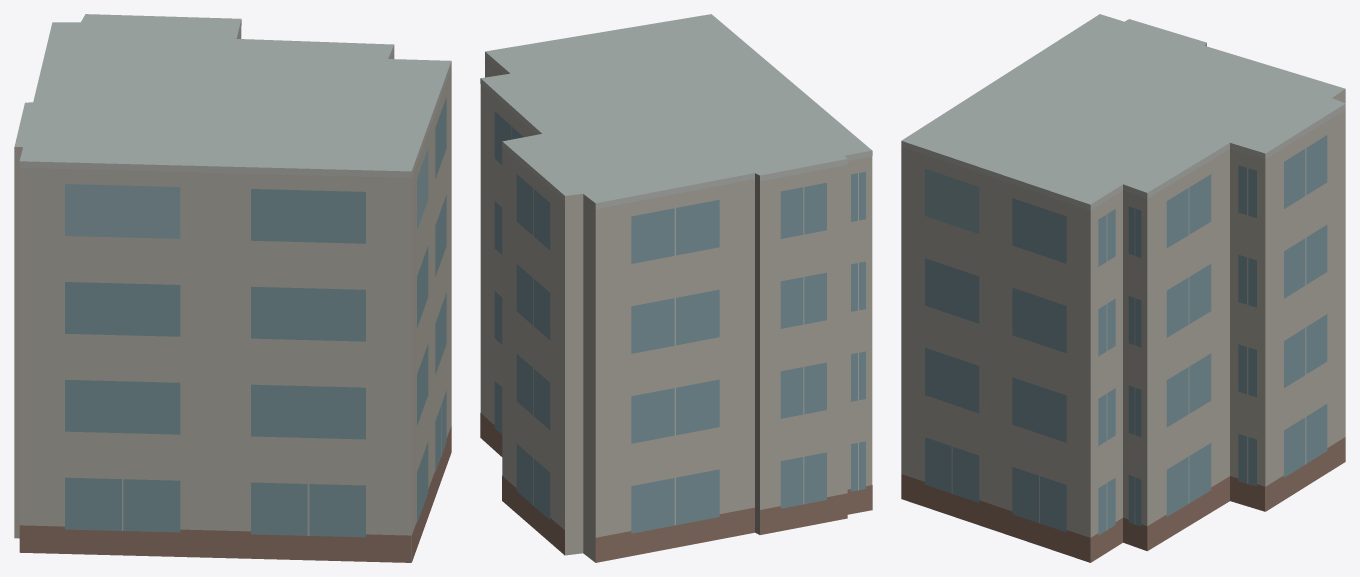
Rendered from survey-upis-32491074.glb.
3 views of the same model, side by side, from view 1: azimuth 30°, elevation 25°; view 2: azimuth 150°, elevation 25°; view 3: azimuth 270°, elevation 25° (orthographic). The views are drawn at different scales.
Visible parts, largest first — view 1: survey-upis-32491074.tmp; view 2: survey-upis-32491074.tmp; view 3: survey-upis-32491074.tmp.
Boxes of the visible parts, x1,y1,x2,y2 form: survey-upis-32491074.tmp: [14, 14, 451, 562]; survey-upis-32491074.tmp: [480, 14, 872, 562]; survey-upis-32491074.tmp: [901, 14, 1345, 562].
Size of the model in its own units: 16.93 by 14.83 by 16.68.
